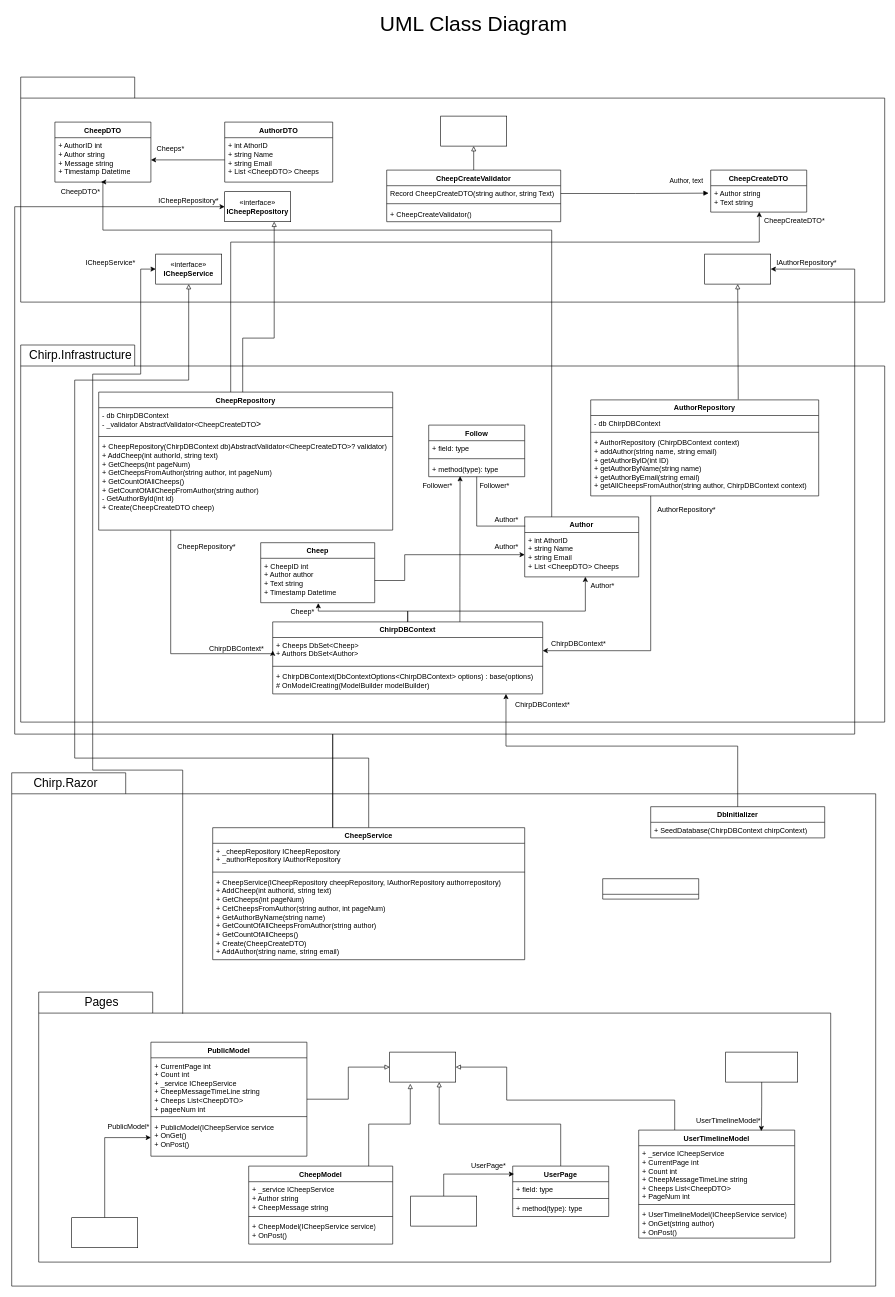
Image size: 895x1297. Some labels were removed from this diagram. Here are the shapes that lost their labels. From the top down, the centre of each, then its label:
At [473,131]: "«interface» AbstractValidator".
At [737,269]: "«interface» IAuthorRepository".
At [650,888]: "Program".
At [422,1067]: "«RazorPages» PageModel".
At [761,1067]: "UserTimeline.cshtml".
At [443,1211]: "UserPage.cshtml".
At [104,1232]: "Public.cshtml".
